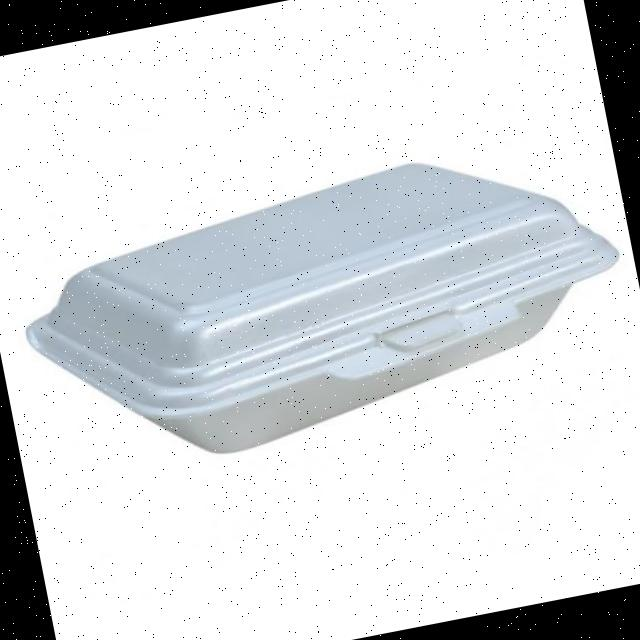styrofoam: (5, 123, 640, 488)
